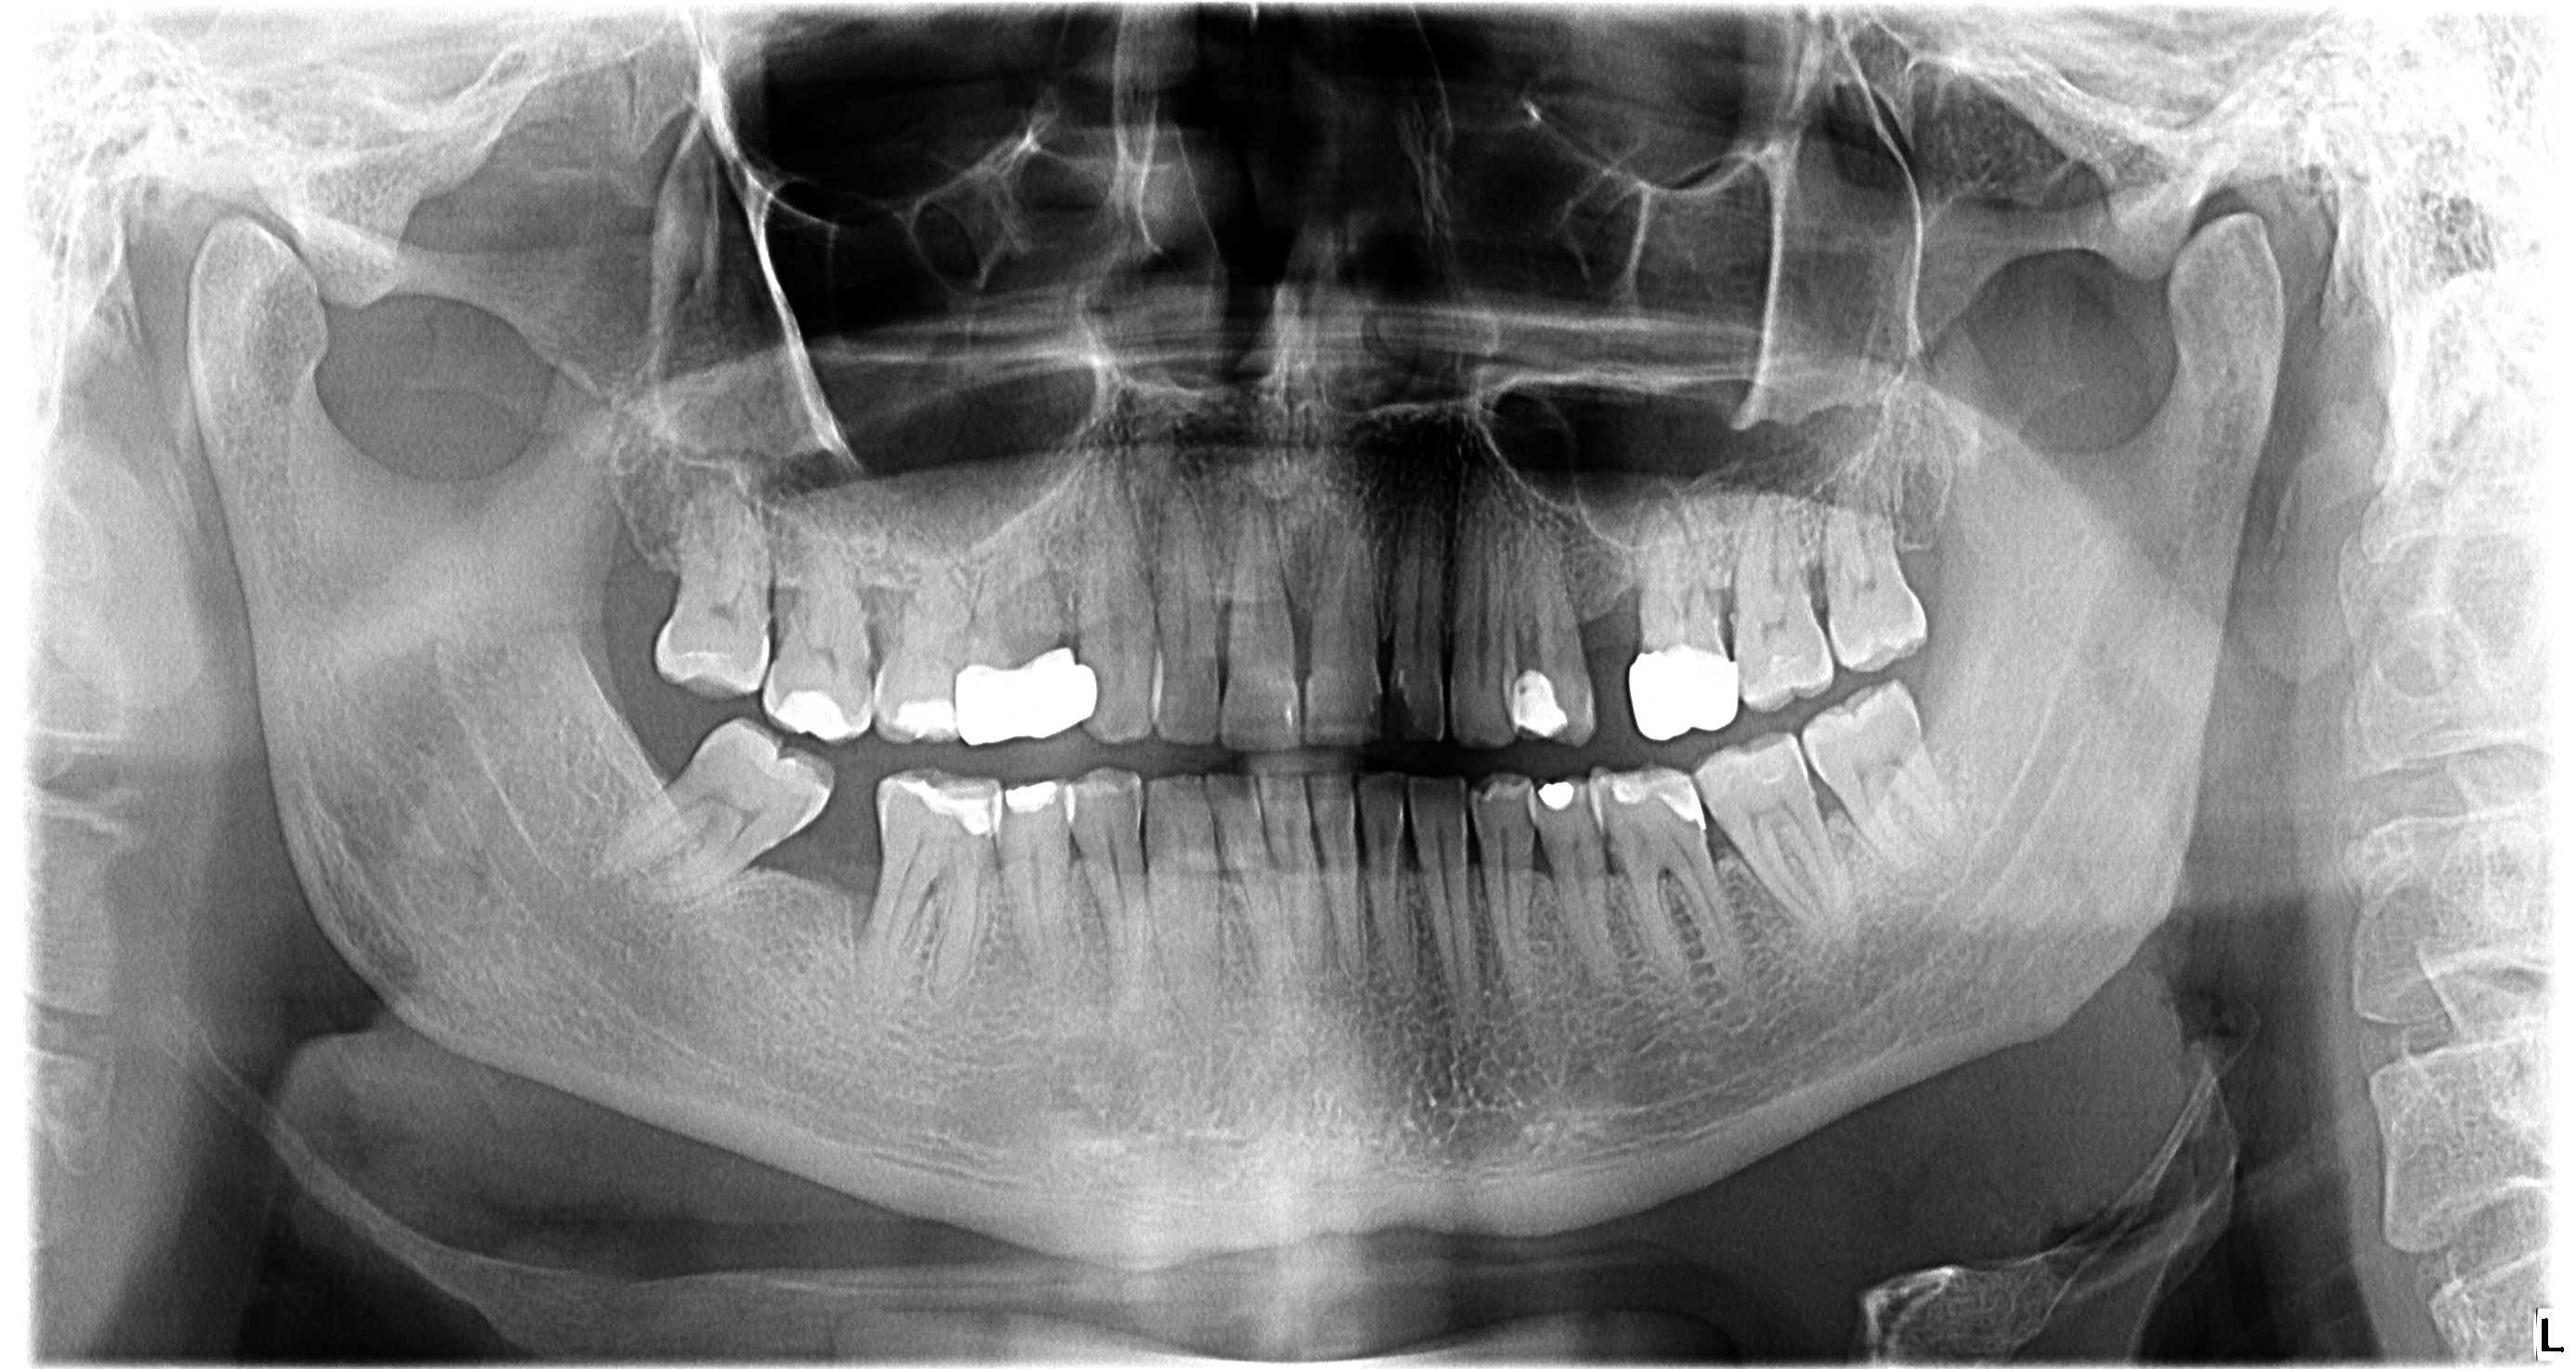BON: (826, 870, 888, 959), (1274, 581, 1320, 662), (1601, 555, 1651, 627), (1201, 582, 1239, 662), (751, 569, 796, 635)
CAR: (1382, 674, 1435, 741), (1354, 674, 1390, 742)
FUR: (906, 868, 961, 918), (1641, 853, 1690, 902)
OBT: (1603, 759, 1719, 838), (903, 763, 1005, 851), (763, 666, 862, 754), (1494, 661, 1571, 753), (884, 684, 968, 749), (990, 768, 1073, 828), (1533, 771, 1584, 826)
PRR: (935, 633, 1109, 771), (1610, 642, 1768, 746)
